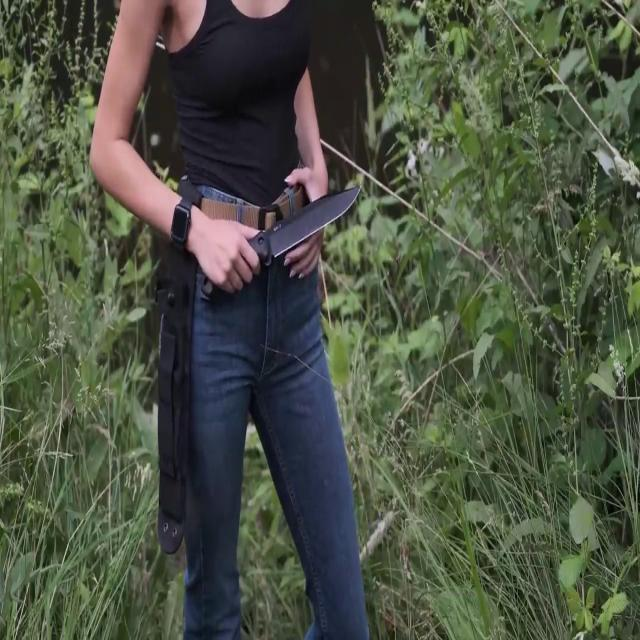Knife: (217, 167, 368, 295)
